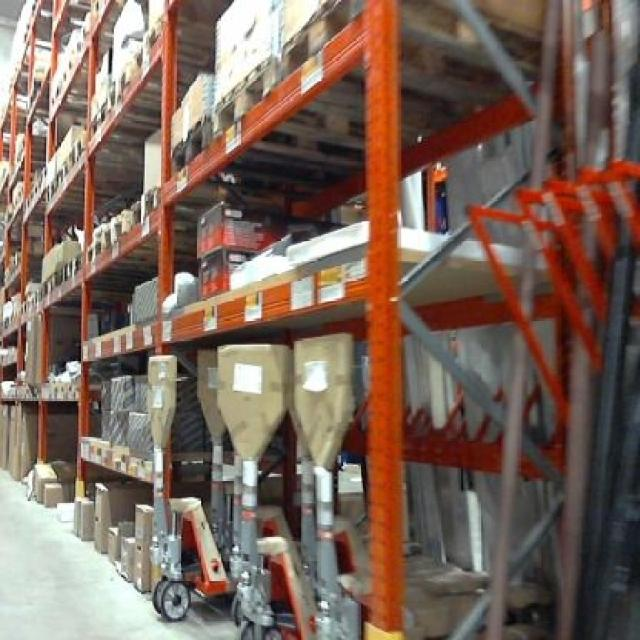pallets: (209, 329, 354, 469), (298, 358, 331, 389)
